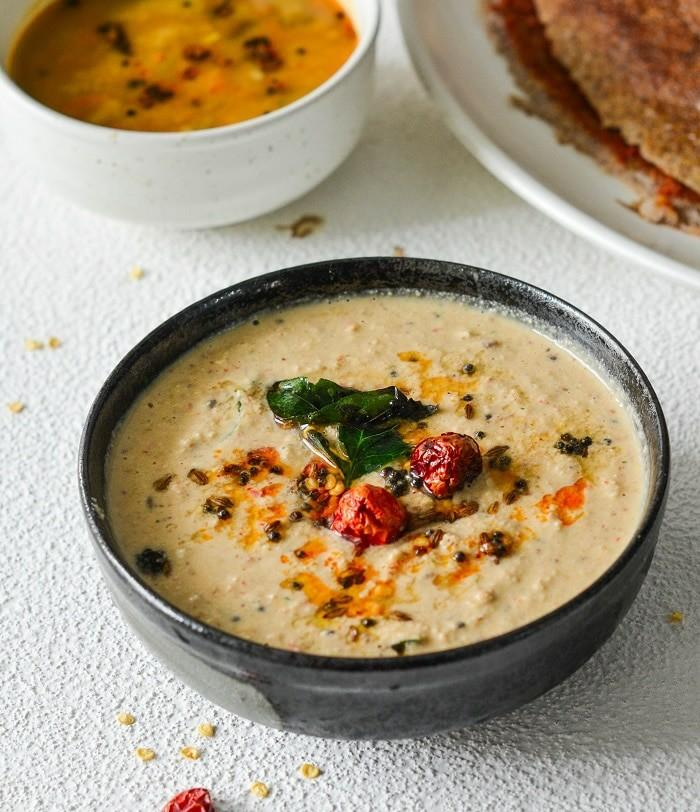CoconutChutney: (109, 295, 648, 656)
